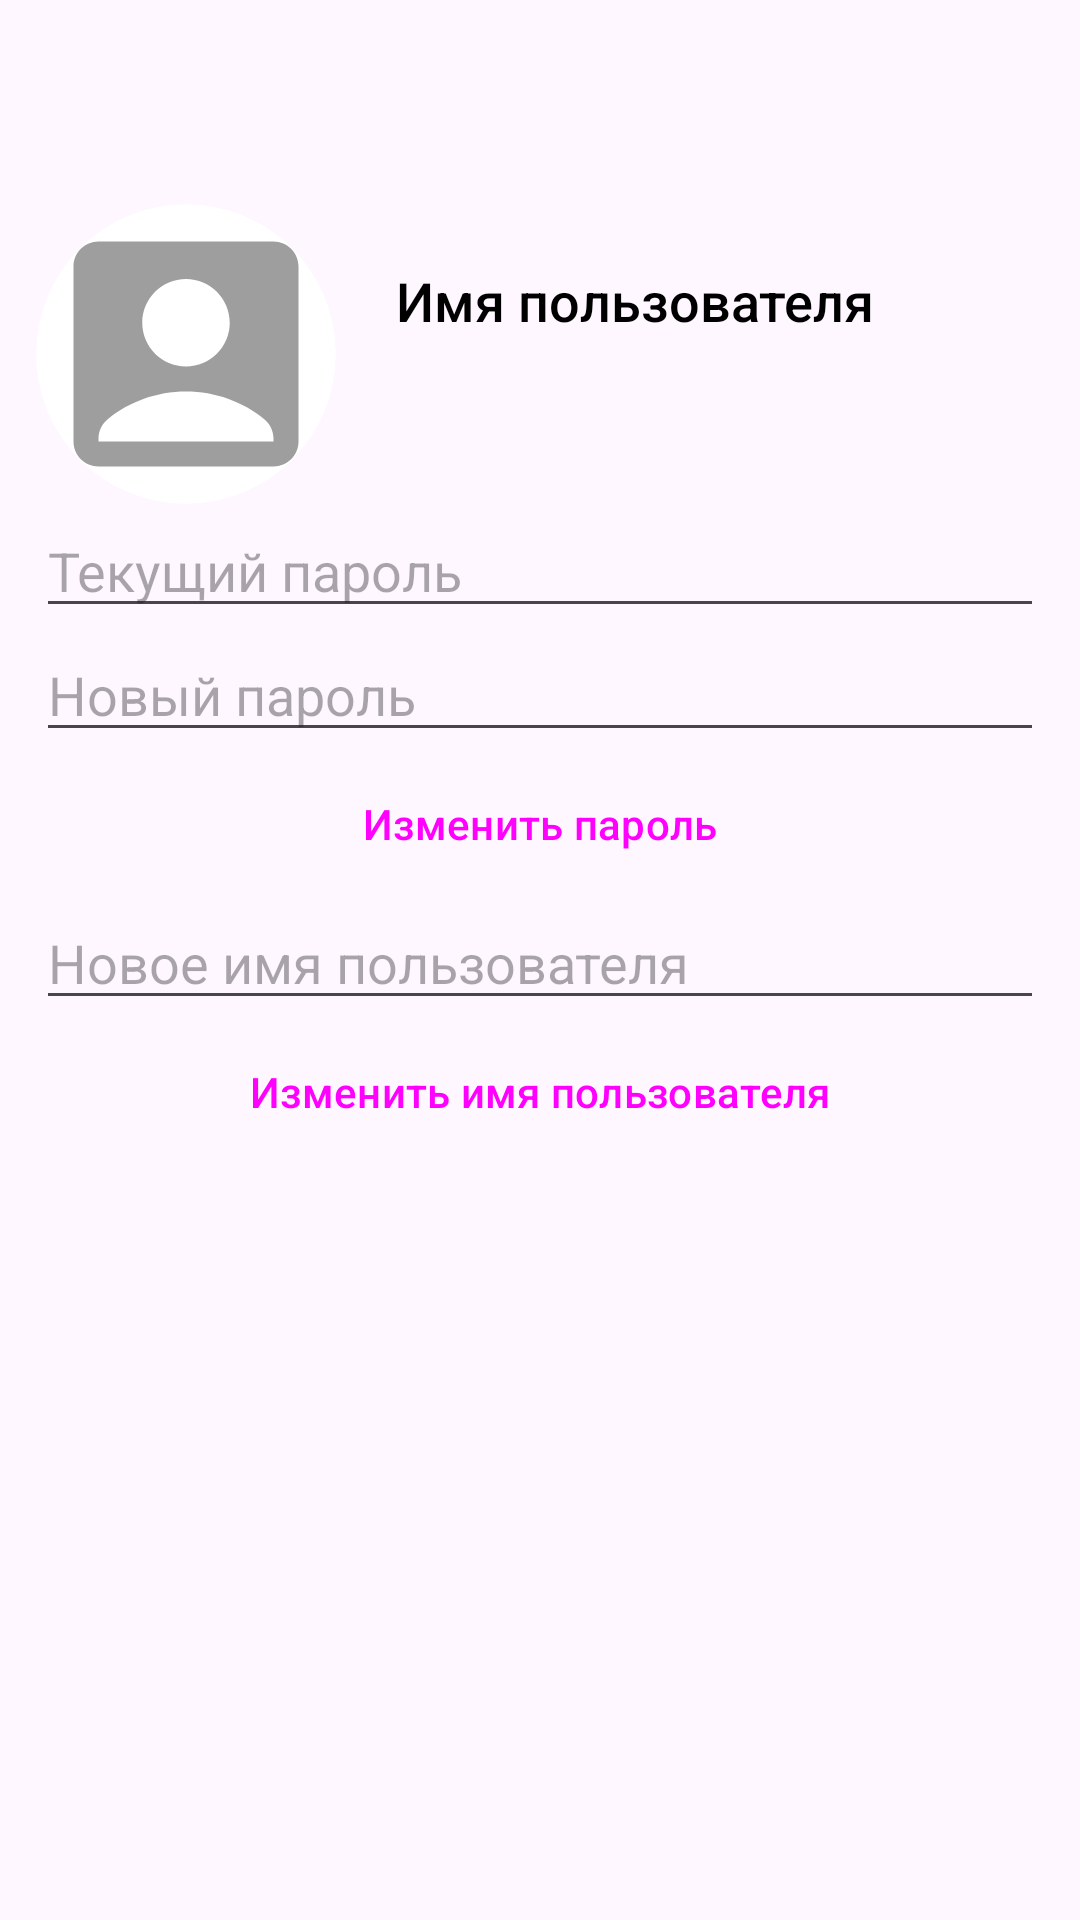

Icons on this 1080*1920 Android screen, each with its box as box=[x1, y1, x2, y2]:
Изображение профиля: box=[73, 241, 299, 467]
